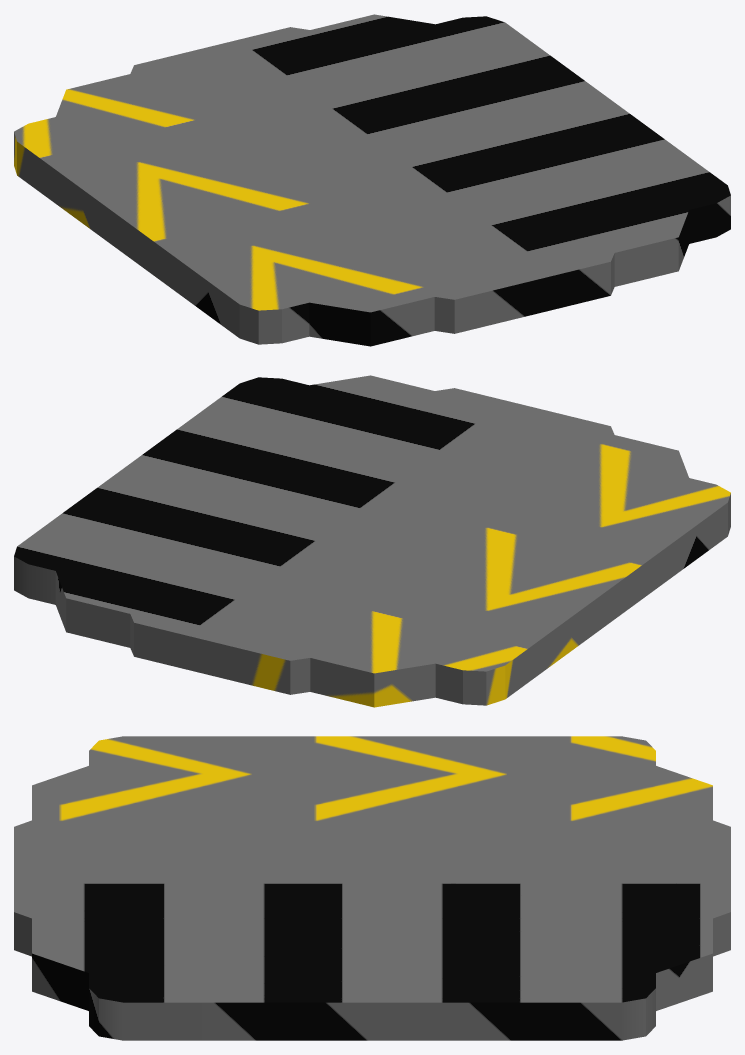
Rendered from noStack.fbx.
3 renders of one model, top to bottom at view 1: azimuth 30°, elevation 25°; view 2: azimuth 150°, elevation 25°; view 3: azimuth 270°, elevation 25°, orthographic. The views are drawn at different scales.
Visible parts, largest first — view 1: platform04_noStack; view 2: platform04_noStack; view 3: platform04_noStack.
Part boxes in pixels (<box>): platform04_noStack: <box>14,14,730,346</box>; platform04_noStack: <box>14,375,730,707</box>; platform04_noStack: <box>14,736,730,1040</box>.
Size of the model in its own units: 3 by 0.2 by 3.41.
